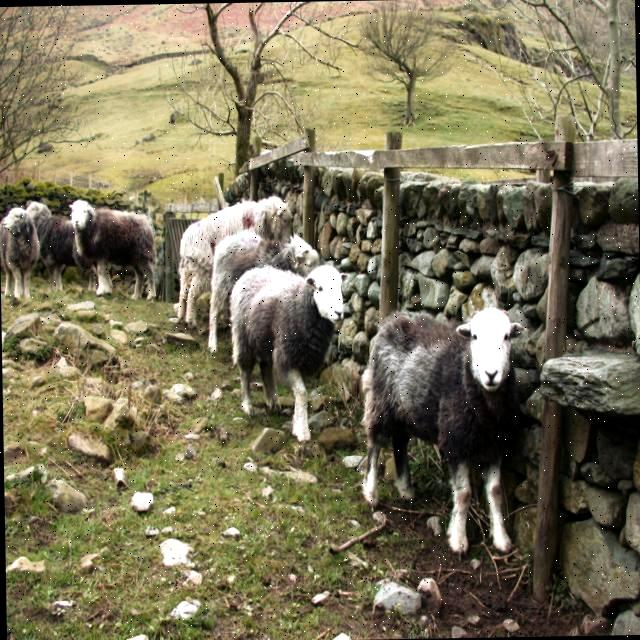sheep: (361, 304, 533, 551)
